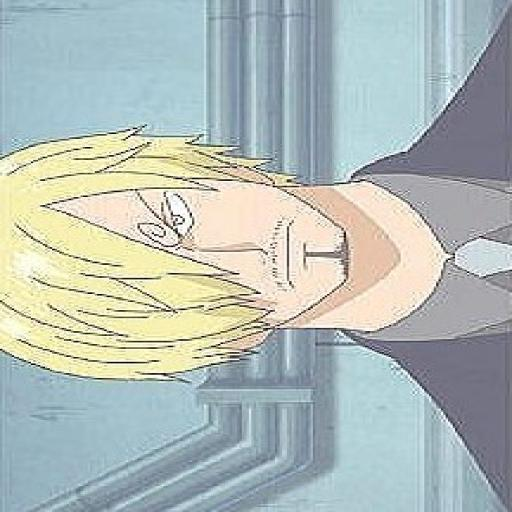sanji: (0, 71, 510, 502)
